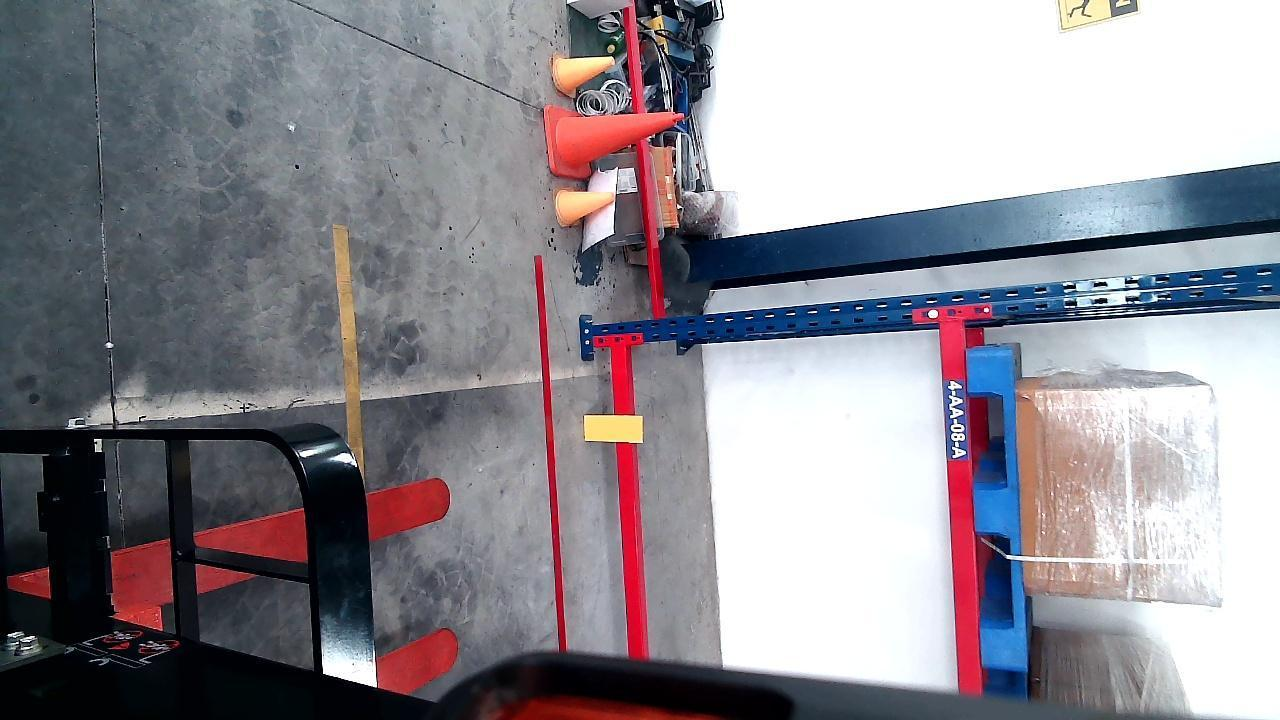h_rack: (941, 317, 979, 698), (611, 346, 645, 656)
orange_strip: (584, 413, 642, 443)
red_line: (537, 266, 570, 651)
small_pallet: (970, 344, 1023, 674)
yellow_line: (335, 221, 365, 465)
